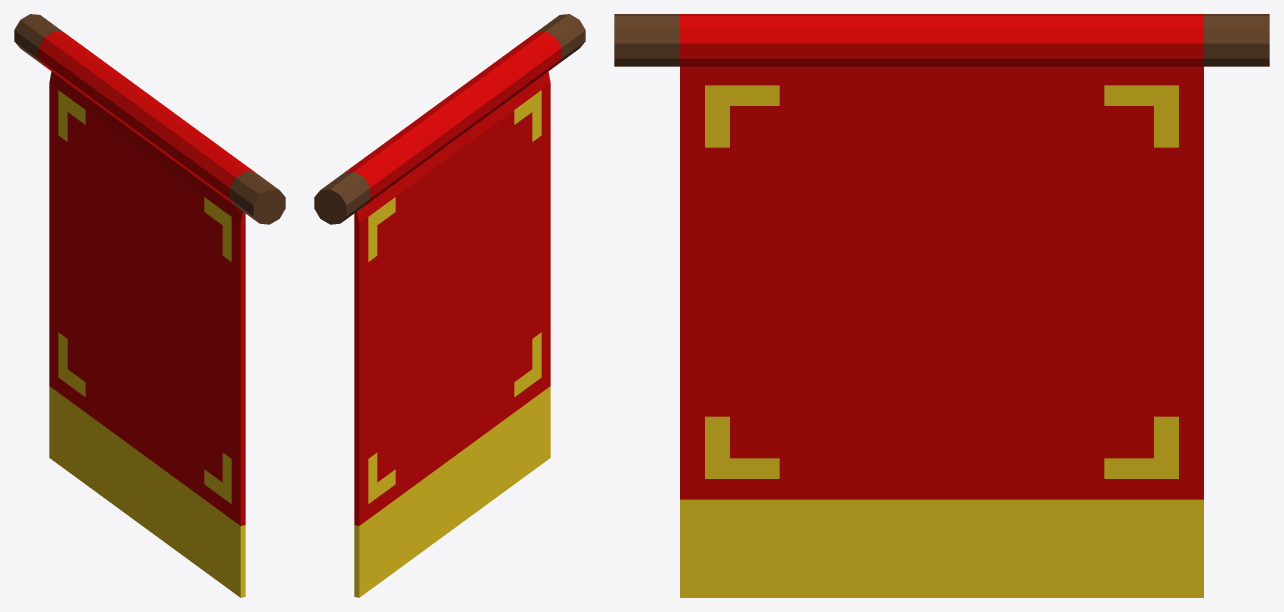
The model's file is Banner V1.fbx.
3 renders of one model, left to right at view 1: azimuth 30°, elevation 25°; view 2: azimuth 150°, elevation 25°; view 3: azimuth 270°, elevation 25°, orthographic. The views are drawn at different scales.
Visible parts, largest first — view 1: Banner V1; view 2: Banner V1; view 3: Banner V1.
Boxes of the visible parts, <box> form: Banner V1: <box>14,14,285,597</box>; Banner V1: <box>314,14,585,597</box>; Banner V1: <box>614,14,1269,597</box>.
Bounding box in the file's own units: 6.5 × 81.79 × 83.45.
